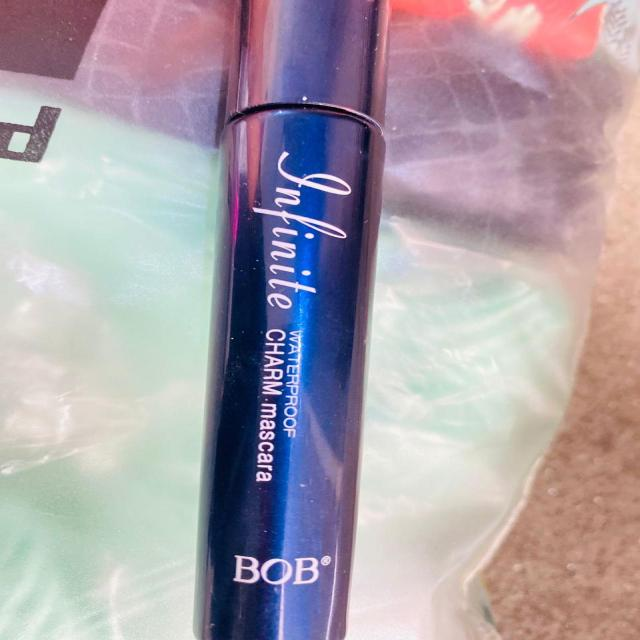mascara: (186, 4, 388, 637)
